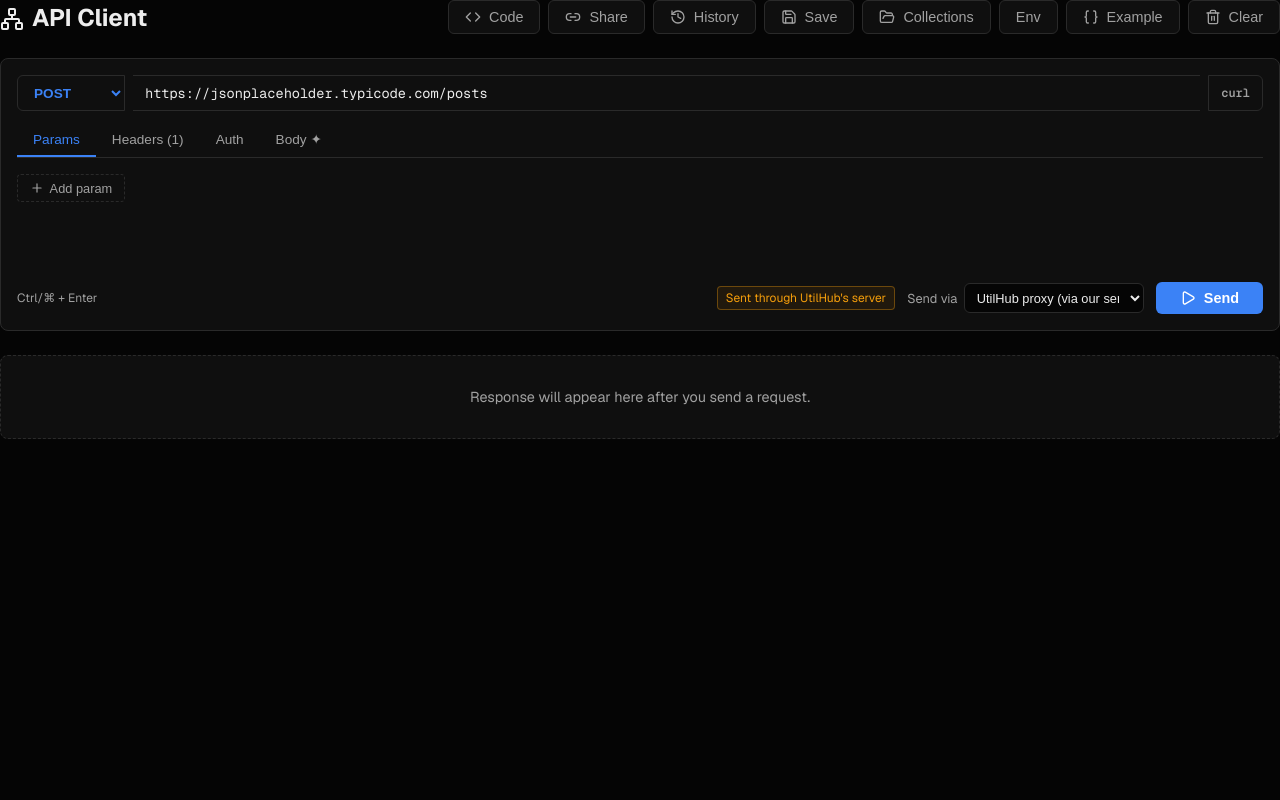
Test case: CurlTester › opens and closes curl import modal
Click the button "curl".
click(1236, 93)  # box 1208,75 -> 1263,111
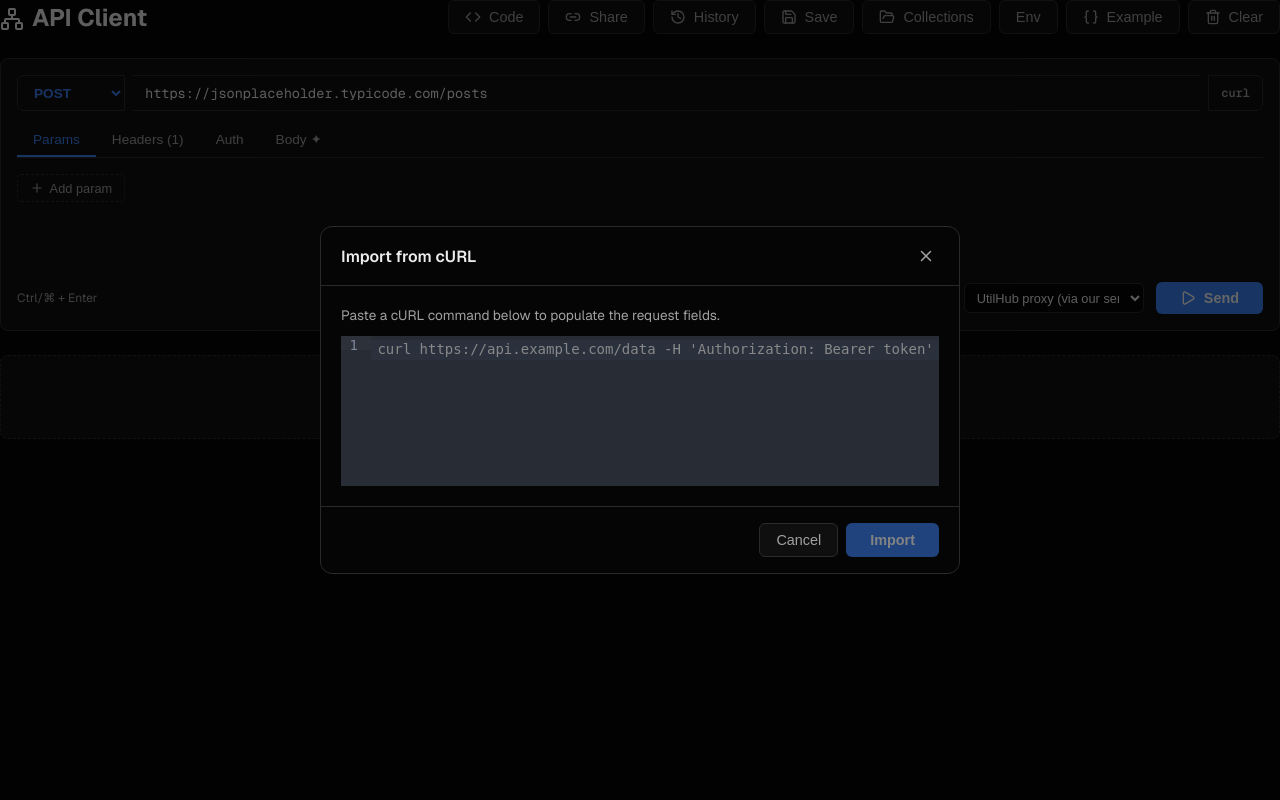
Expected: the heading "Import from cURL" is shown, 341,246 -> 476,266
Click the button "Cancel".
click(799, 540)  # box 759,523 -> 838,557
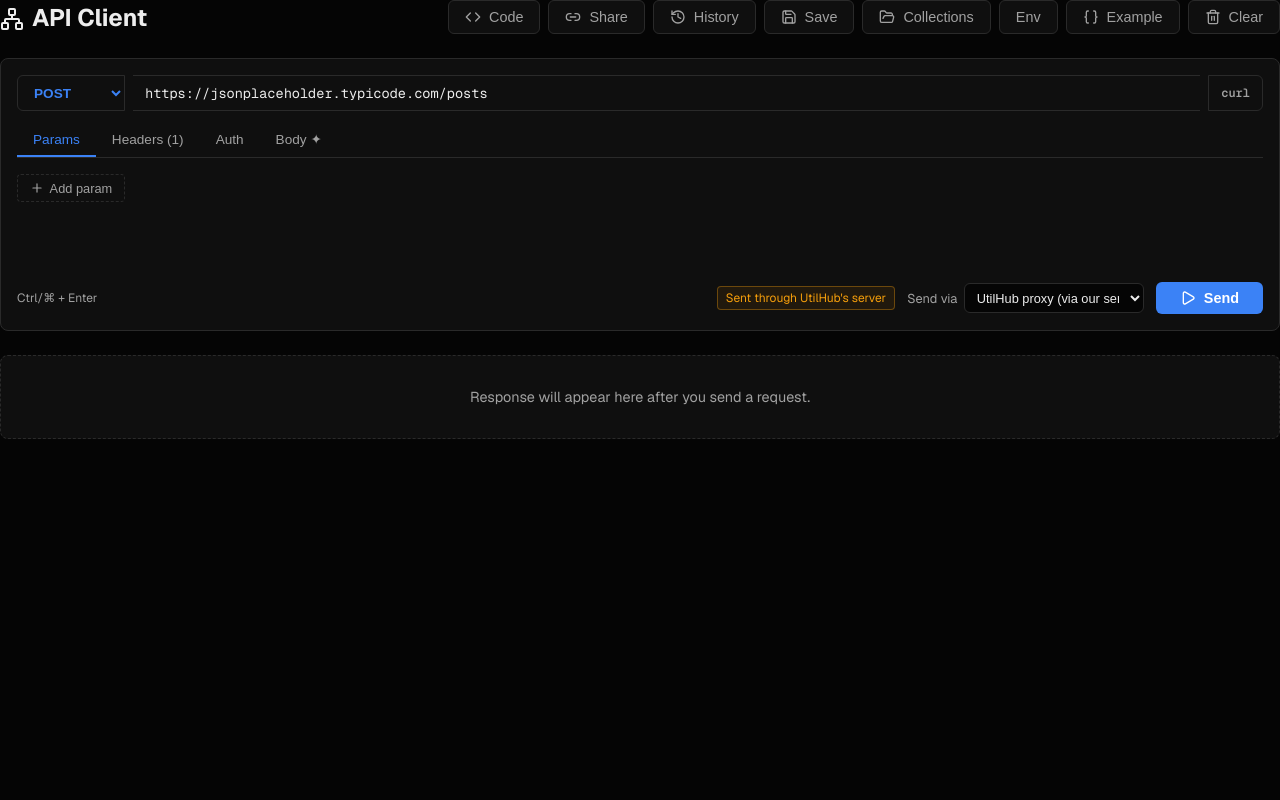
Expected: the heading "Import from cURL" is gone
